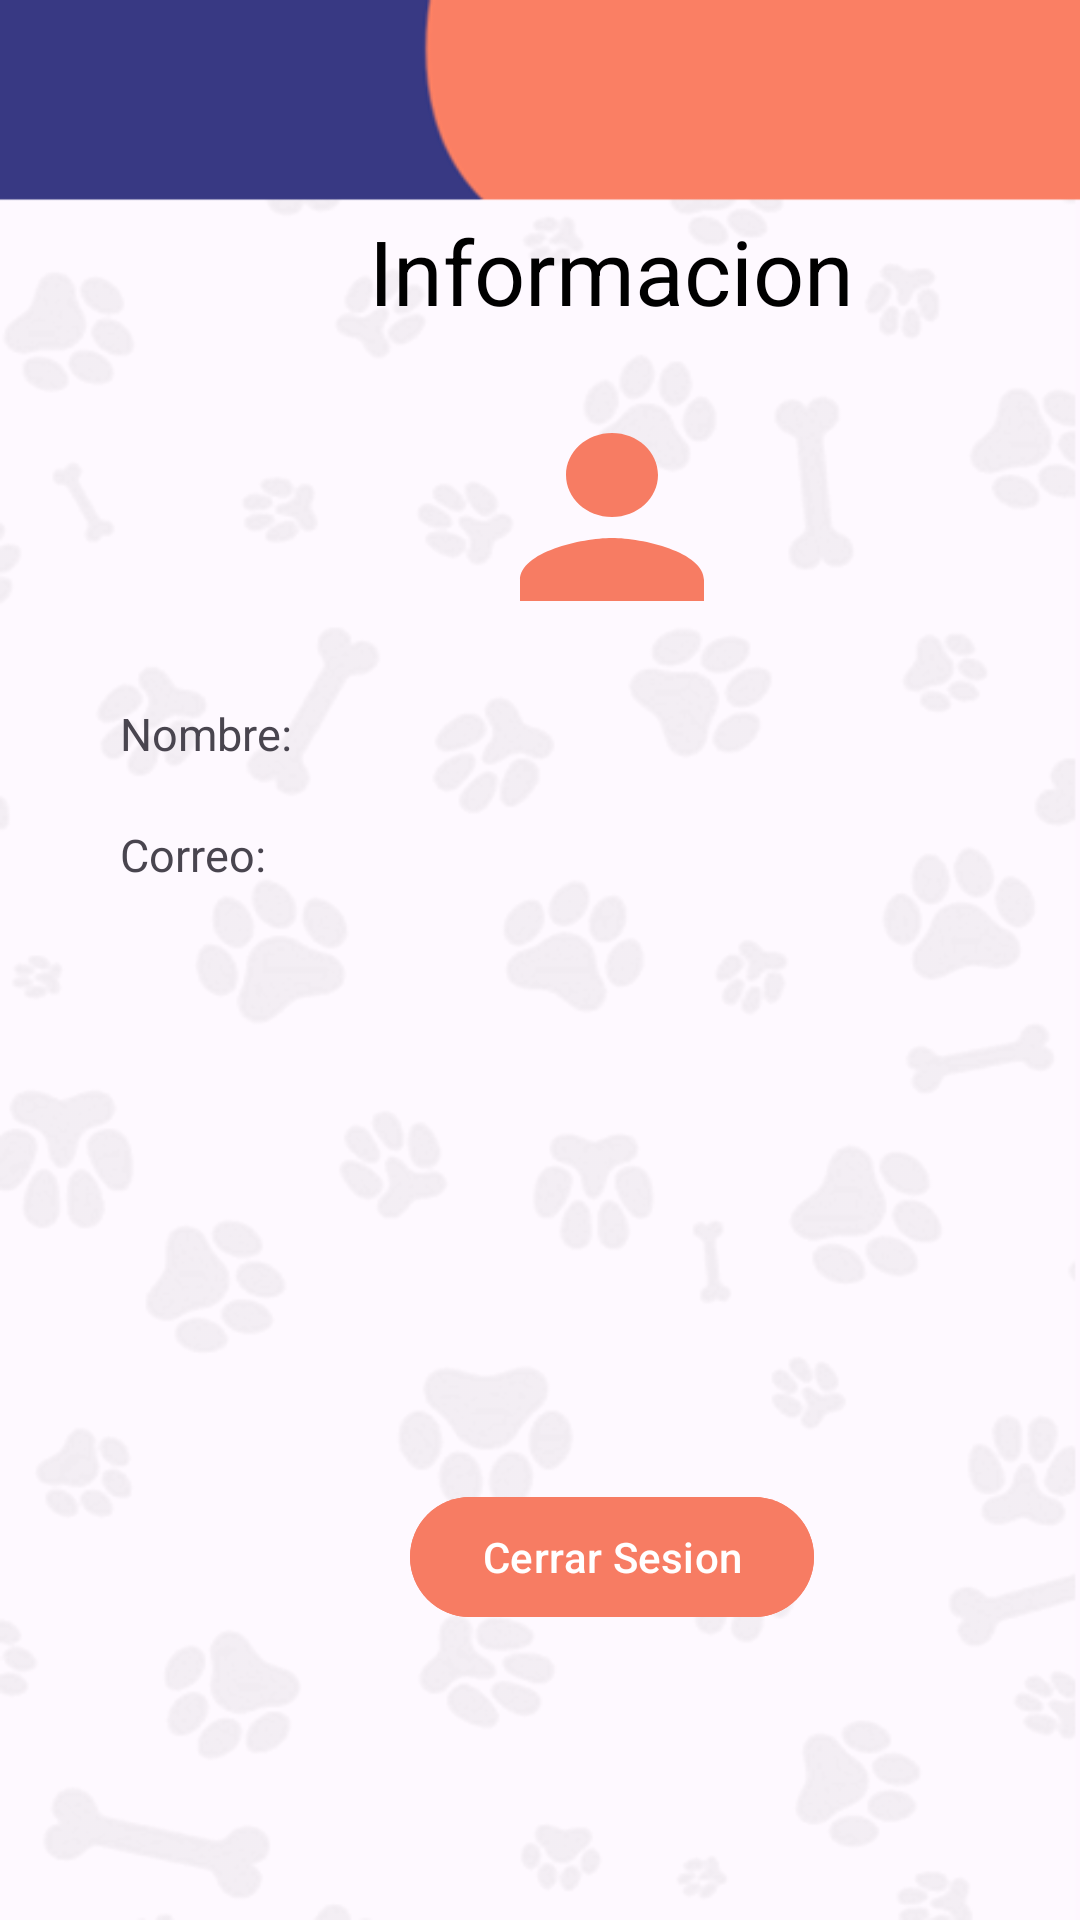

Icon click points for this 1080px×1920px phone screenshot, format [x,y]:
person: [612,517]
